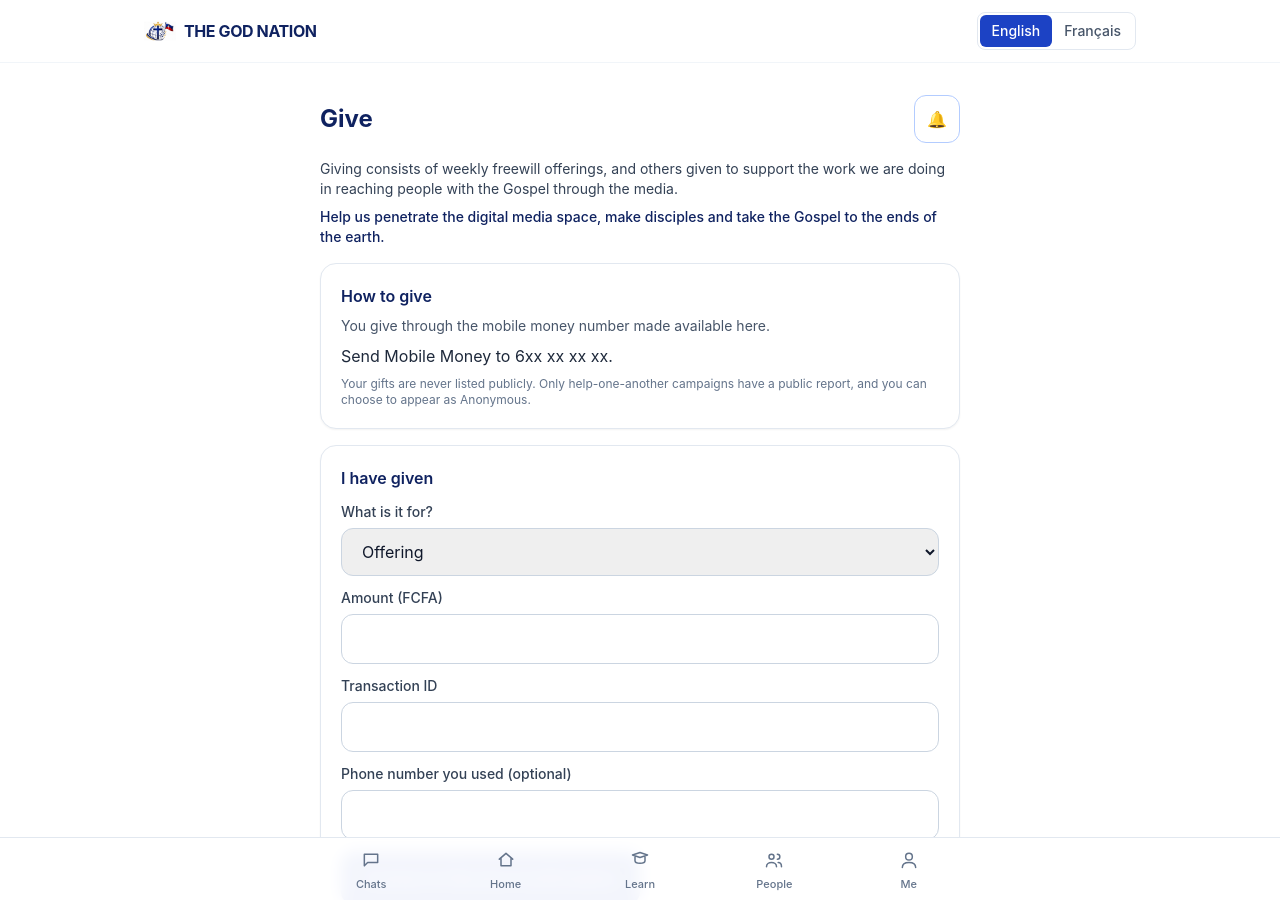
Scenario: MemberGivePage › says "I have given": an offering with its amount and transaction ID
The width and height of the screenshot is (1280, 900).
Type "5000" into the number field labelled "Amount (FCFA)".
click(640, 639); type("5000")  # box [341,614,939,664]
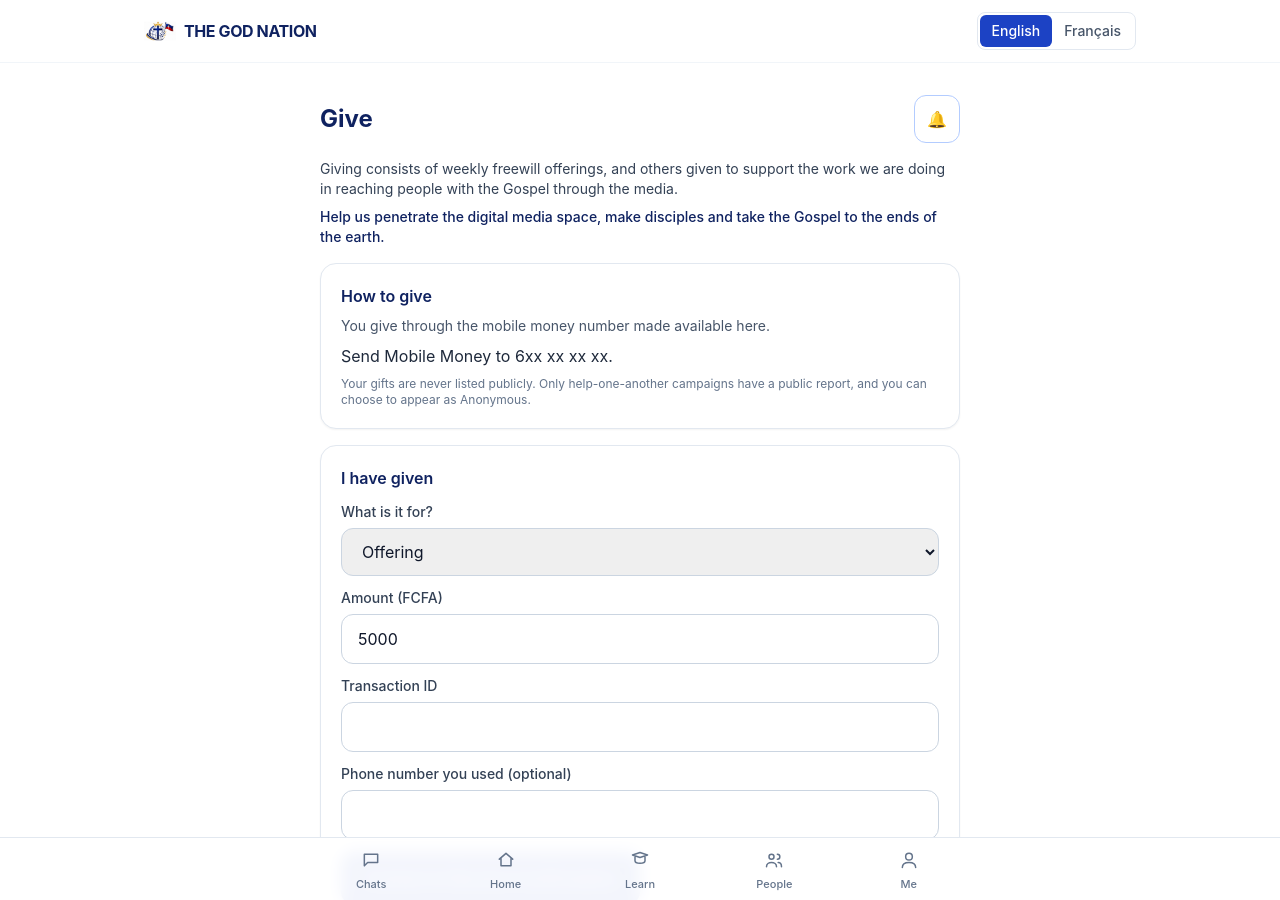
Type "MP123456" into the field labelled "Transaction ID".
click(640, 727); type("MP123456")  # box [341,702,939,752]
(page scrolled)
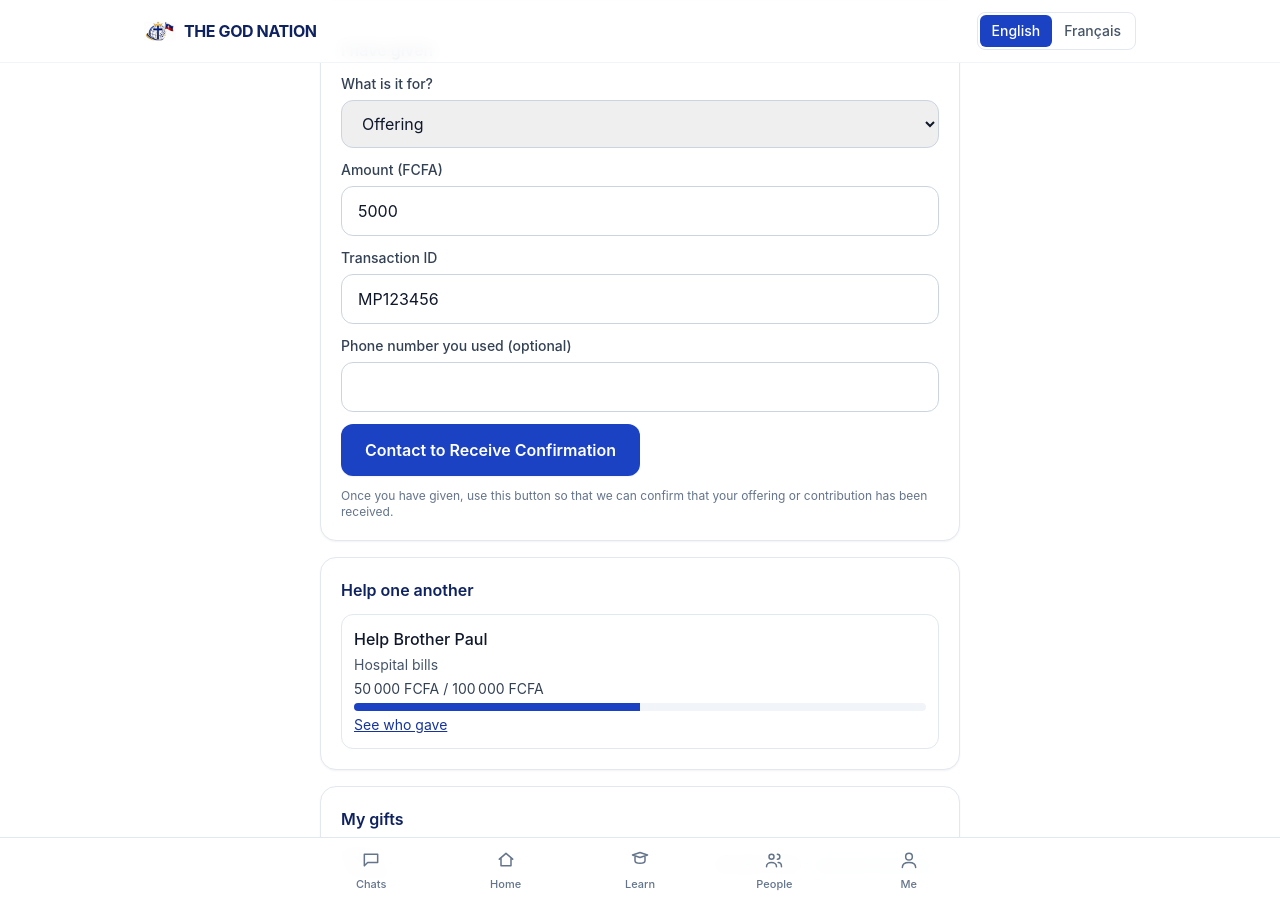
Click the button "Contact to Receive Confirmation".
click(490, 450)  # box [341,424,640,476]
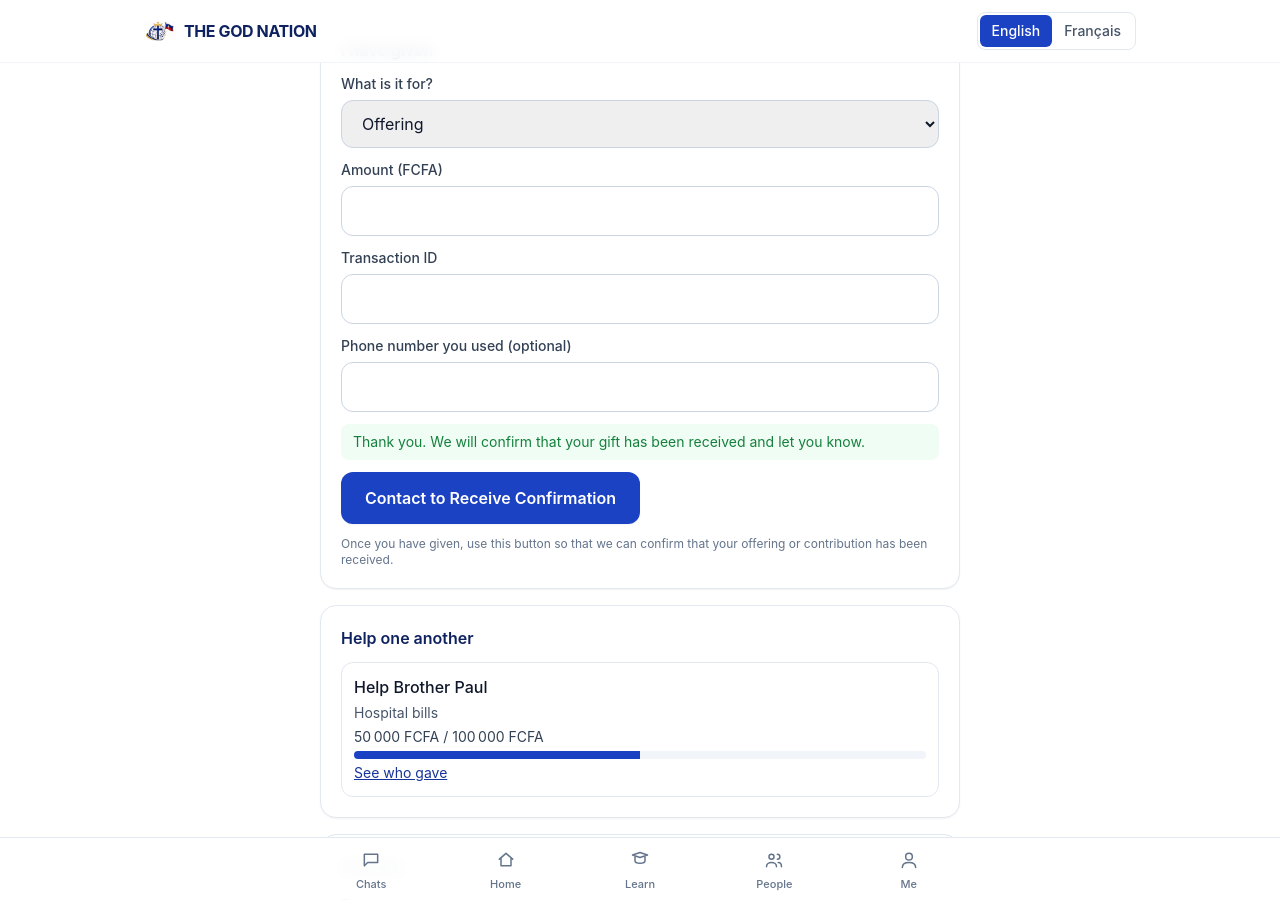
Result: the text "Thank you. We will confirm that your gift has been received and let you know." is shown at [341,424,939,460]
